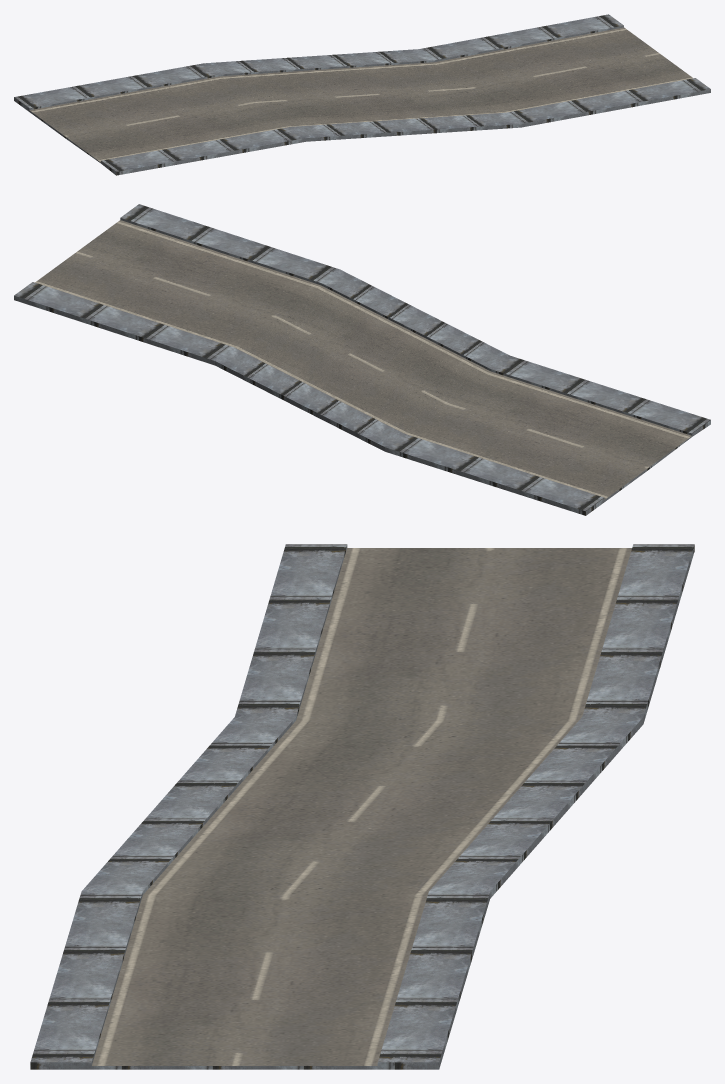
Rendered from Urban_Road4Sheer_Model.fbx.
The picture shows the model from 3 angles, top to bottom: view 1: azimuth 30°, elevation 25°; view 2: azimuth 150°, elevation 25°; view 3: azimuth 270°, elevation 25°; orthographic projection. The views are drawn at different scales.
Parts seen in each view (by area): view 1: Urban_Road4Sheer_Mesh; view 2: Urban_Road4Sheer_Mesh; view 3: Urban_Road4Sheer_Mesh.
Part boxes in pixels (x1,y1,x2,y2): Urban_Road4Sheer_Mesh: (14, 14, 710, 175); Urban_Road4Sheer_Mesh: (14, 204, 710, 515); Urban_Road4Sheer_Mesh: (30, 544, 694, 1069).
Size of the model in its own units: 48 by 0.4 by 26.
